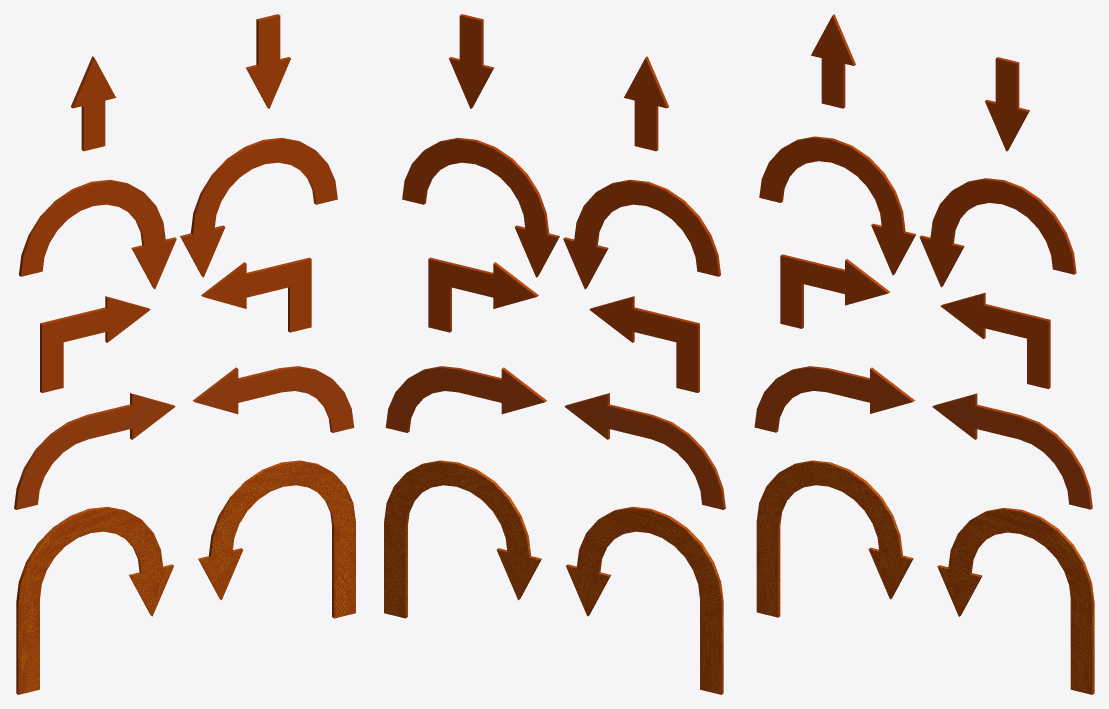
File: set.fbx
The picture shows the model from 3 angles, left to right: view 1: azimuth 30°, elevation 25°; view 2: azimuth 150°, elevation 25°; view 3: azimuth 330°, elevation 25°; orthographic projection.
Parts seen in each view (by area): view 1: Group8, Group7, Group1, Group2, Group5, Group6, Group4, Group3, Group10, Group9; view 2: Group8, Group7, Group1, Group2, Group5, Group6, Group4, Group3, Group10, Group9; view 3: Group8, Group7, Group2, Group1, Group6, Group5, Group4, Group3, Group9, Group10.
Part boxes in pixels (left/top/right/bottom): Group8: left=198, top=460, right=355, bottom=618; Group7: left=16, top=506, right=173, bottom=694; Group1: left=19, top=179, right=176, bottom=289; Group2: left=180, top=138, right=337, bottom=277; Group5: left=14, top=393, right=175, bottom=509; Group6: left=193, top=366, right=354, bottom=432; Group4: left=201, top=257, right=311, bottom=332; Group3: left=40, top=296, right=150, bottom=392; Group10: left=245, top=14, right=290, bottom=108; Group9: left=71, top=56, right=115, bottom=151; Group8: left=384, top=460, right=541, bottom=618; Group7: left=566, top=506, right=723, bottom=694; Group1: left=563, top=179, right=720, bottom=289; Group2: left=402, top=138, right=559, bottom=277; Group5: left=564, top=393, right=725, bottom=509; Group6: left=385, top=366, right=546, bottom=432; Group4: left=428, top=257, right=538, bottom=332; Group3: left=589, top=296, right=699, bottom=392; Group10: left=449, top=14, right=494, bottom=108; Group9: left=624, top=56, right=668, bottom=151; Group8: left=937, top=508, right=1094, bottom=694; Group7: left=756, top=460, right=913, bottom=617; Group2: left=919, top=178, right=1076, bottom=287; Group1: left=759, top=136, right=916, bottom=275; Group6: left=932, top=393, right=1092, bottom=509; Group5: left=754, top=366, right=914, bottom=432; Group4: left=940, top=292, right=1050, bottom=388; Group3: left=780, top=254, right=889, bottom=328; Group9: left=811, top=14, right=855, bottom=108; Group10: left=985, top=57, right=1029, bottom=151.
Bounding box in the file's own units: 2.34 × 4.08 × 0.025.
